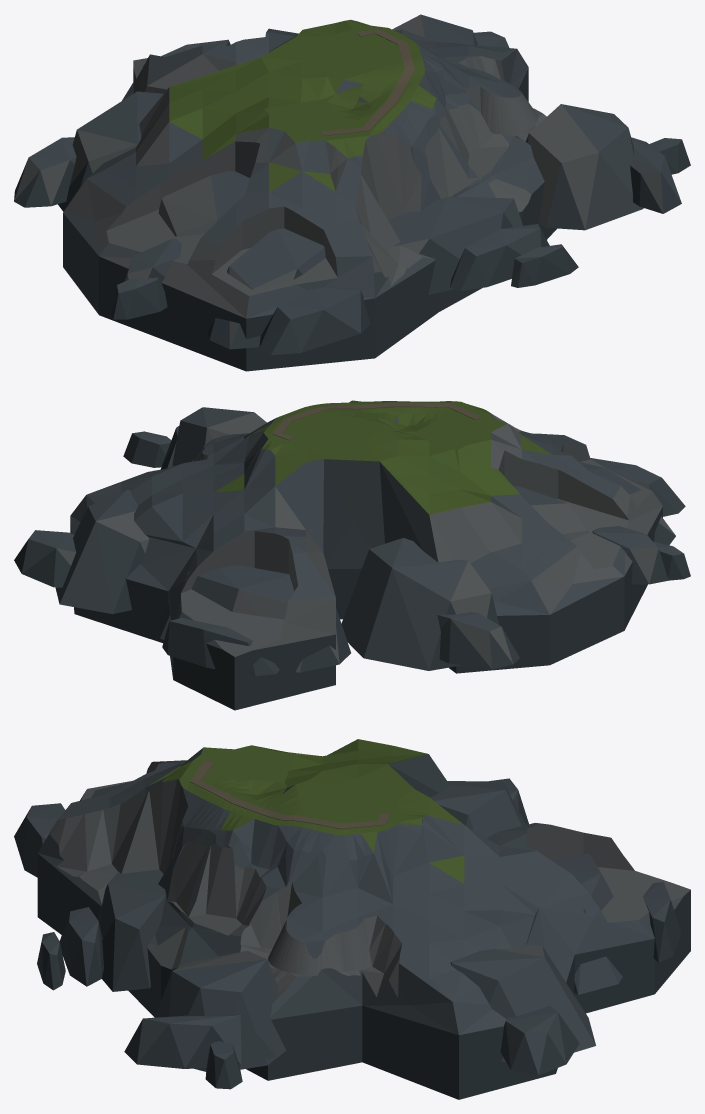
File: island_c.glb
3 views of the same model, one above another, from view 1: azimuth 30°, elevation 25°; view 2: azimuth 150°, elevation 25°; view 3: azimuth 270°, elevation 25° (orthographic). The views are drawn at different scales.
Visible parts, largest first — view 1: island_c_Coast short olive grass, island_c_Coast blue grey bedrock, island_c_Coast weathered stone footpath; view 2: island_c_Coast short olive grass, island_c_Coast blue grey bedrock, island_c_Coast weathered stone footpath; view 3: island_c_Coast short olive grass, island_c_Coast blue grey bedrock, island_c_Coast weathered stone footpath.
Boxes of the visible parts, x1,y1,x2,y2 form: island_c_Coast short olive grass: (63, 19, 556, 371); island_c_Coast blue grey bedrock: (14, 14, 690, 355); island_c_Coast weathered stone footpath: (320, 29, 414, 135); island_c_Coast short olive grass: (70, 400, 662, 710); island_c_Coast blue grey bedrock: (14, 407, 690, 675); island_c_Coast weathered stone footpath: (272, 402, 481, 440); island_c_Coast short olive grass: (37, 739, 690, 1099); island_c_Coast blue grey bedrock: (14, 778, 681, 1089); island_c_Coast weathered stone footpath: (190, 761, 390, 828).
Bounding box in the file's own units: 64.61 × 17.59 × 60.
